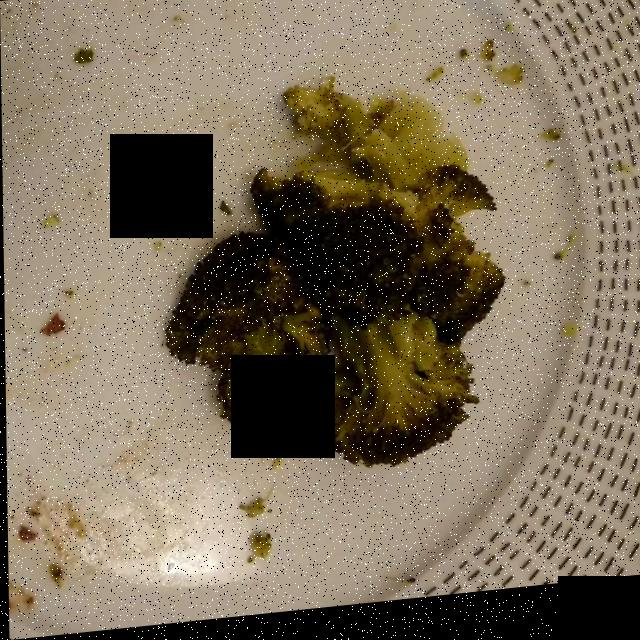broccoli: (167, 108, 502, 468)
